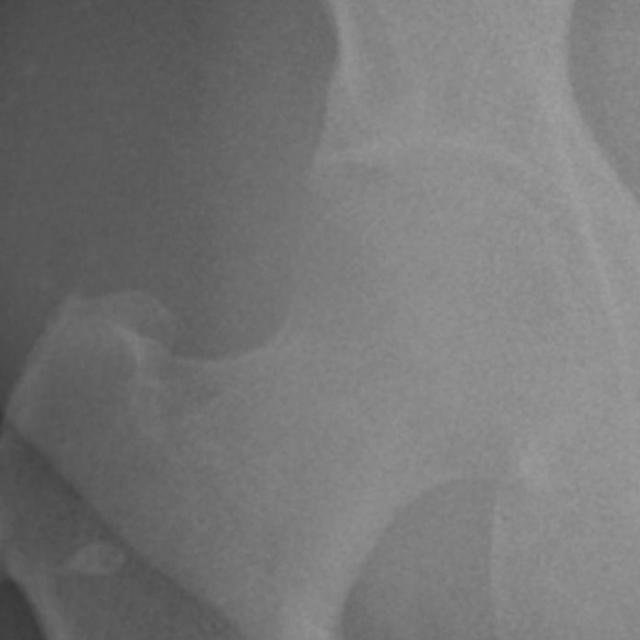Fitted_femural_head: (334, 163, 432, 334)
